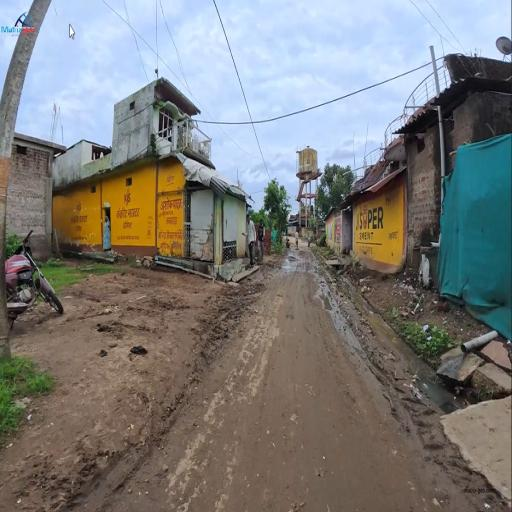drainage_issue: (390, 316, 466, 422)
